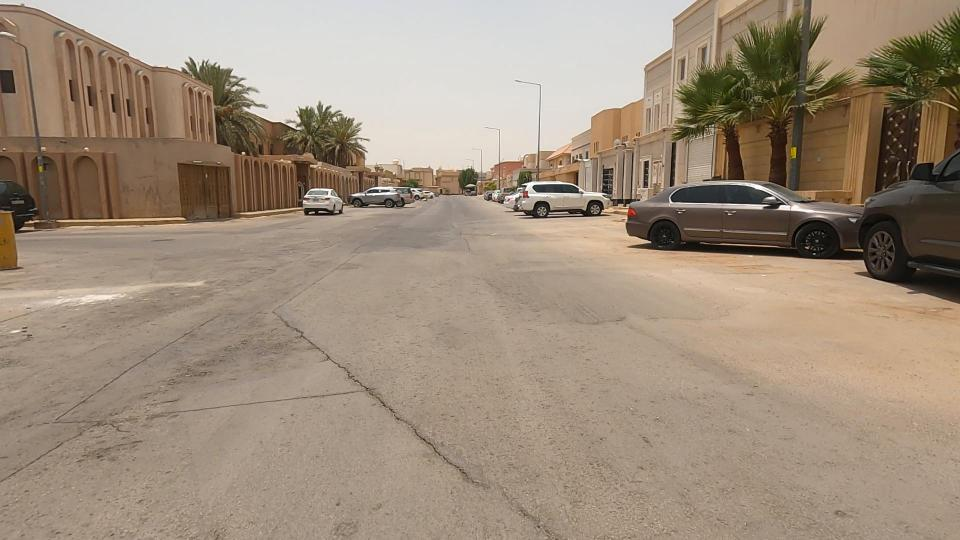CONSTRUCTION_ROAD: (321, 355, 501, 489), (265, 308, 398, 410)
